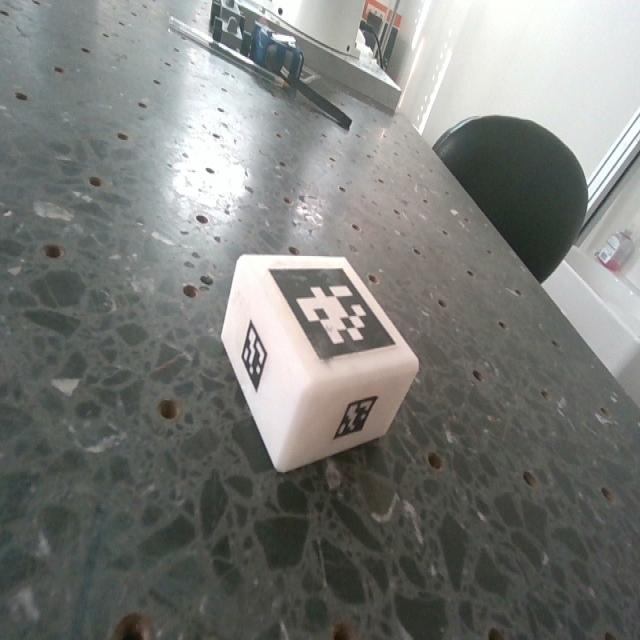Cube: (216, 251, 417, 473)
